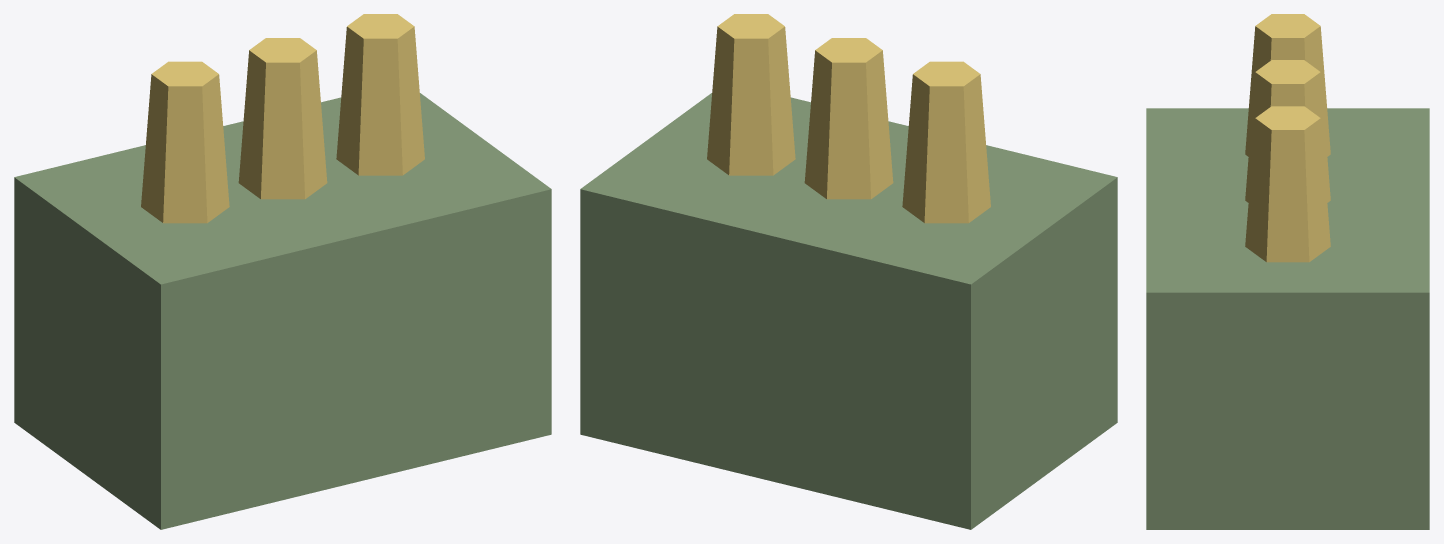
File: ammo_pickup.glb
3 renders of one model, left to right at view 1: azimuth 30°, elevation 25°; view 2: azimuth 150°, elevation 25°; view 3: azimuth 270°, elevation 25°, orthographic. The views are drawn at different scales.
Parts seen in each view (by area): view 1: AmmoPickup; view 2: AmmoPickup; view 3: AmmoPickup.
Part boxes in pixels (x1,y1,x2,y2): AmmoPickup: (14, 14, 551, 529); AmmoPickup: (580, 14, 1117, 529); AmmoPickup: (1146, 14, 1429, 529).
Size of the model in its own units: 0.4 by 0.37 by 0.26.
